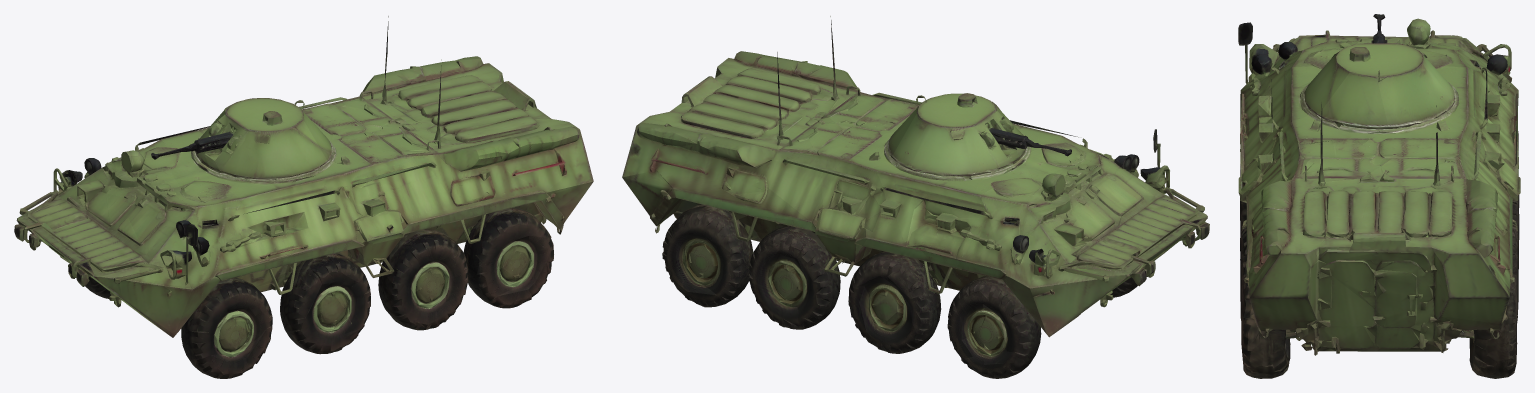
File: btr.glb
3 views of the same model, side by side, from view 1: azimuth 30°, elevation 25°; view 2: azimuth 150°, elevation 25°; view 3: azimuth 270°, elevation 25° (orthographic). The views are drawn at different scales.
Bounding box in the file's own units: 1.9 × 0.9074 × 0.8786.
Materials: 1 (1 with a texture image).
